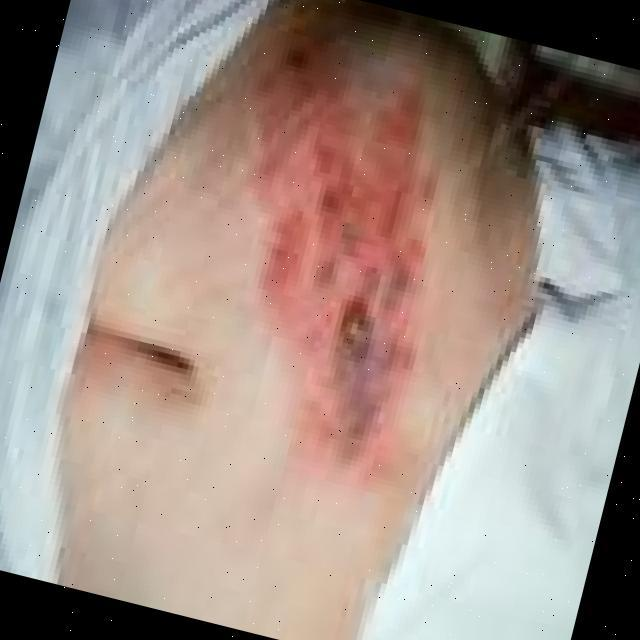Shingles: (246, 30, 439, 459)
